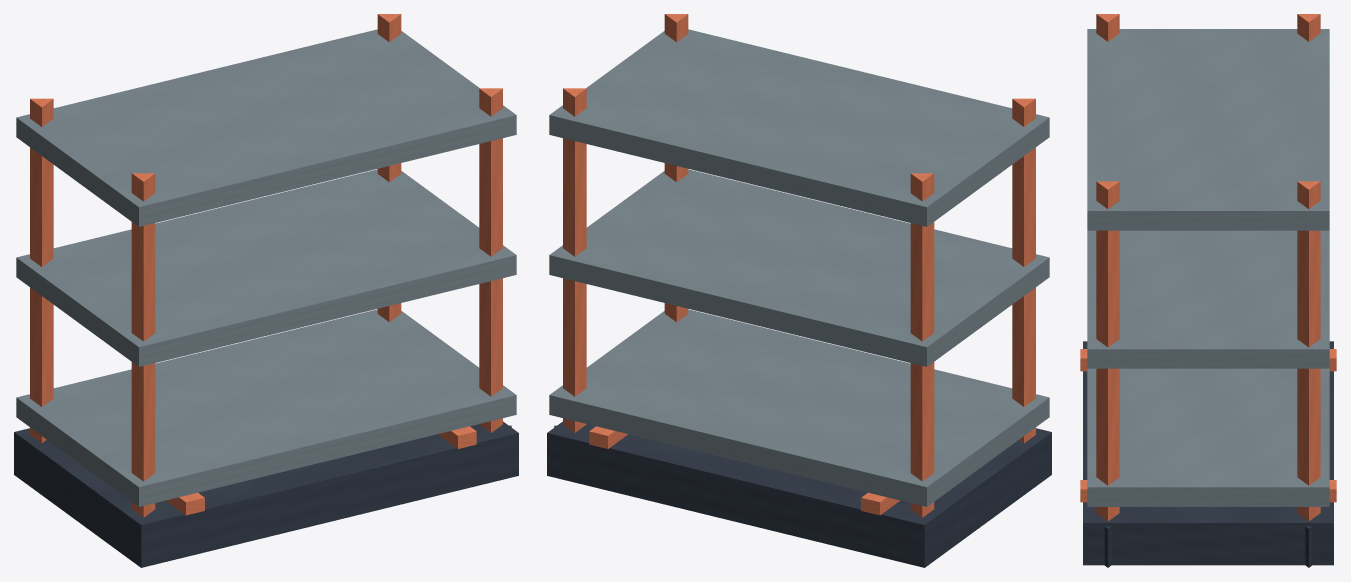
Rendered from atlas100-s025-a06.lod2.glb.
The picture shows the model from 3 angles, left to right: view 1: azimuth 30°, elevation 25°; view 2: azimuth 150°, elevation 25°; view 3: azimuth 270°, elevation 25°; orthographic projection.
Parts seen in each view (by area): view 1: atlas100-s025-a06:part-013, atlas100-s025-a06:part-011, atlas100-s025-a06:part-012, atlas100-s025-a06:part-000, atlas100-s025-a06:part-005, atlas100-s025-a06:part-009, atlas100-s025-a06:part-003, atlas100-s025-a06:part-007; view 2: atlas100-s025-a06:part-013, atlas100-s025-a06:part-011, atlas100-s025-a06:part-012, atlas100-s025-a06:part-000, atlas100-s025-a06:part-003, atlas100-s025-a06:part-007, atlas100-s025-a06:part-005, atlas100-s025-a06:part-009; view 3: atlas100-s025-a06:part-013, atlas100-s025-a06:part-012, atlas100-s025-a06:part-011, atlas100-s025-a06:part-000, atlas100-s025-a06:part-007, atlas100-s025-a06:part-009, atlas100-s025-a06:part-003, atlas100-s025-a06:part-005, atlas100-s025-a06:part-001, atlas100-s025-a06:part-002.
Boxes of the visible parts, x1,y1,x2,y2 form: atlas100-s025-a06:part-013: (16, 29, 516, 226); atlas100-s025-a06:part-011: (16, 309, 516, 506); atlas100-s025-a06:part-012: (16, 169, 516, 366); atlas100-s025-a06:part-000: (14, 421, 518, 567); atlas100-s025-a06:part-005: (131, 173, 155, 517); atlas100-s025-a06:part-009: (479, 88, 502, 432); atlas100-s025-a06:part-003: (30, 98, 53, 443); atlas100-s025-a06:part-007: (377, 14, 401, 322); atlas100-s025-a06:part-013: (549, 29, 1049, 226); atlas100-s025-a06:part-011: (549, 309, 1049, 506); atlas100-s025-a06:part-012: (549, 169, 1049, 366); atlas100-s025-a06:part-000: (547, 421, 1051, 567); atlas100-s025-a06:part-003: (910, 173, 934, 517); atlas100-s025-a06:part-007: (563, 88, 586, 432); atlas100-s025-a06:part-005: (1012, 98, 1035, 443); atlas100-s025-a06:part-009: (664, 14, 688, 322); atlas100-s025-a06:part-013: (1087, 29, 1329, 230); atlas100-s025-a06:part-012: (1087, 230, 1329, 368); atlas100-s025-a06:part-011: (1087, 368, 1329, 506); atlas100-s025-a06:part-000: (1083, 341, 1333, 565); atlas100-s025-a06:part-007: (1297, 181, 1320, 521); atlas100-s025-a06:part-009: (1096, 181, 1119, 521); atlas100-s025-a06:part-003: (1297, 14, 1320, 41); atlas100-s025-a06:part-005: (1096, 14, 1119, 41); atlas100-s025-a06:part-001: (1080, 349, 1336, 371); atlas100-s025-a06:part-002: (1080, 480, 1336, 502).
Size of the model in its own units: 2.43 by 2.3 by 1.43.
3 materials, 3 textured.
